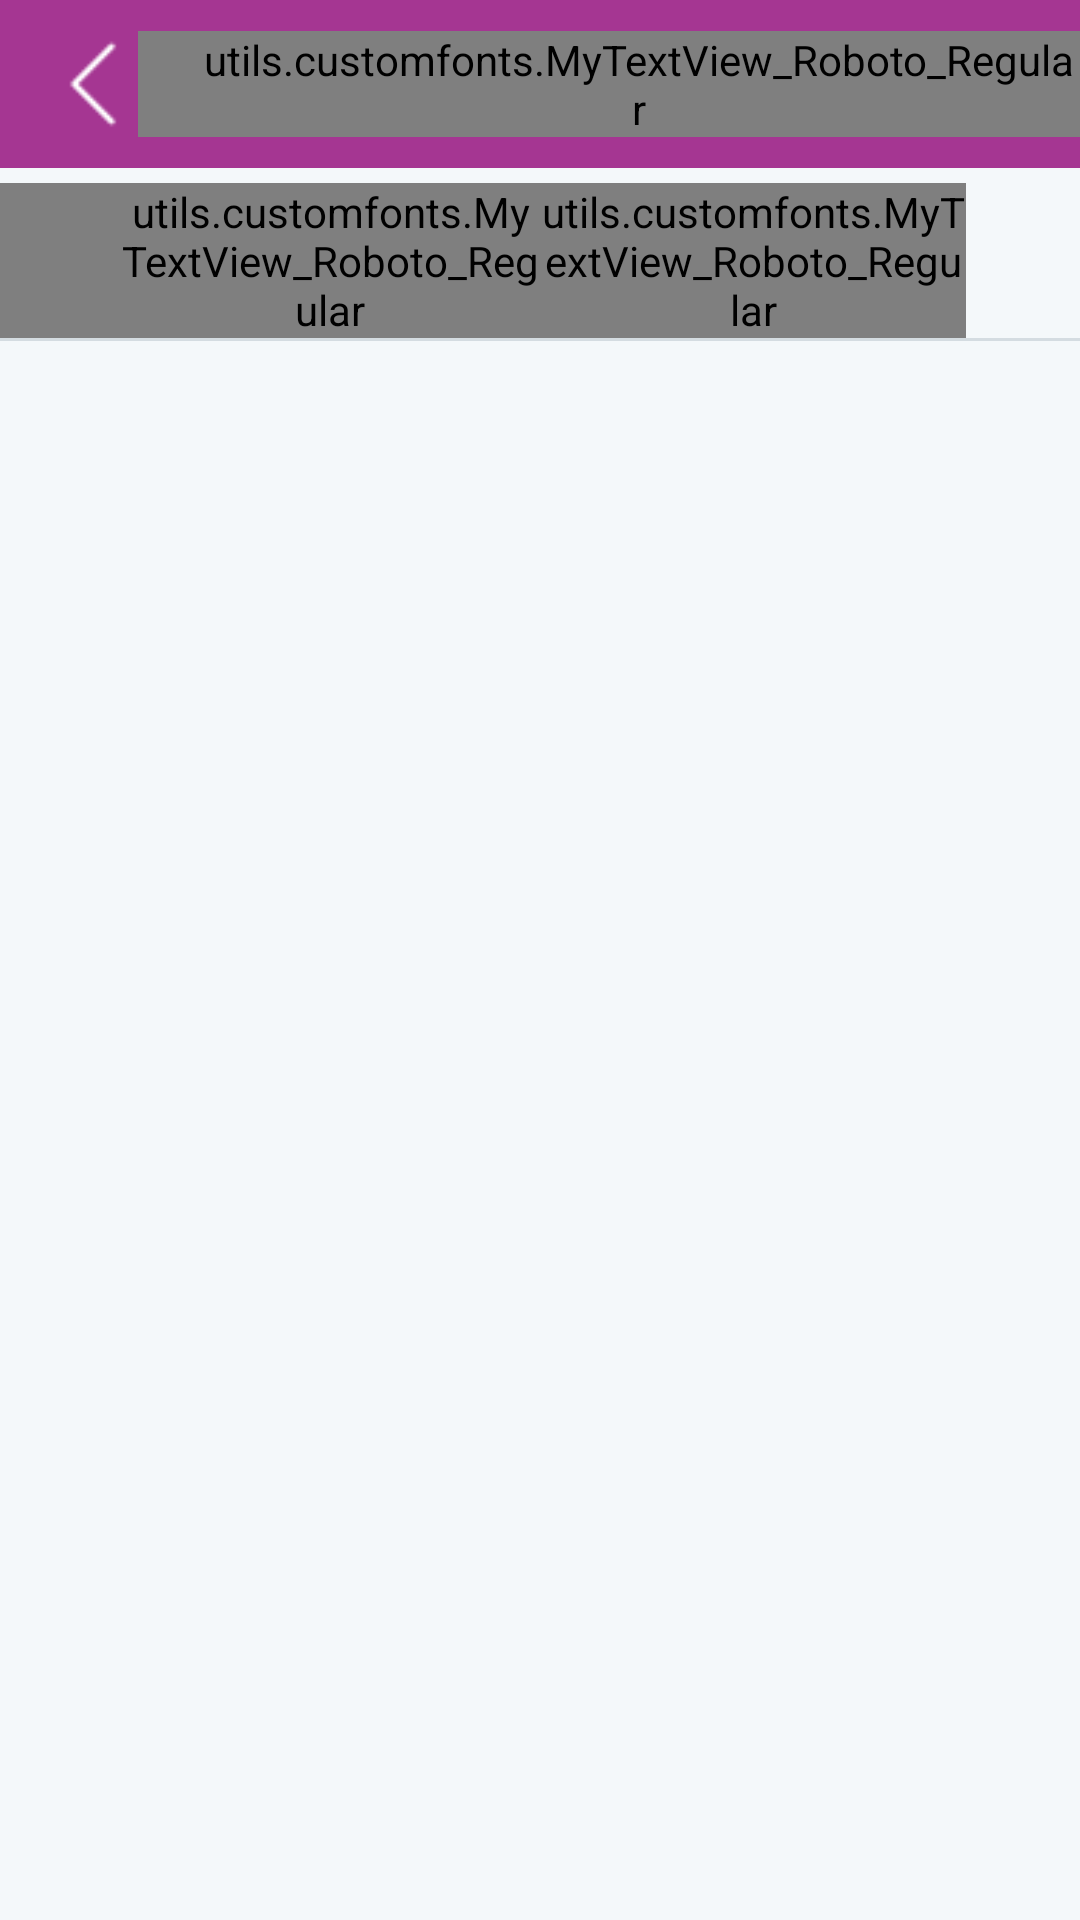

Point at icon controls on the screen. Image size 1080x1920, points as (x,y).
left arrow: (93,84)
